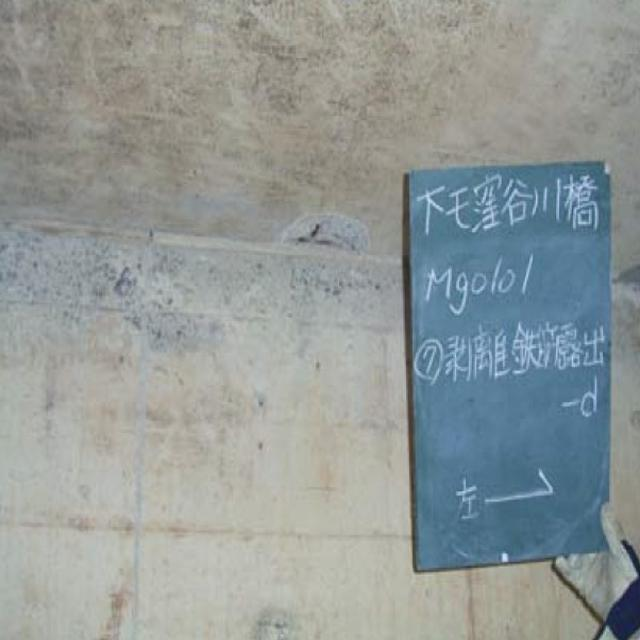spalling: (14, 202, 394, 334)
